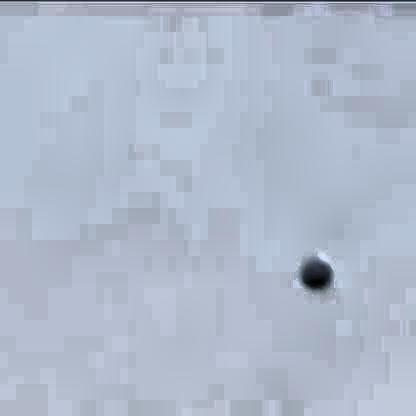golfball: (297, 248, 330, 287)
